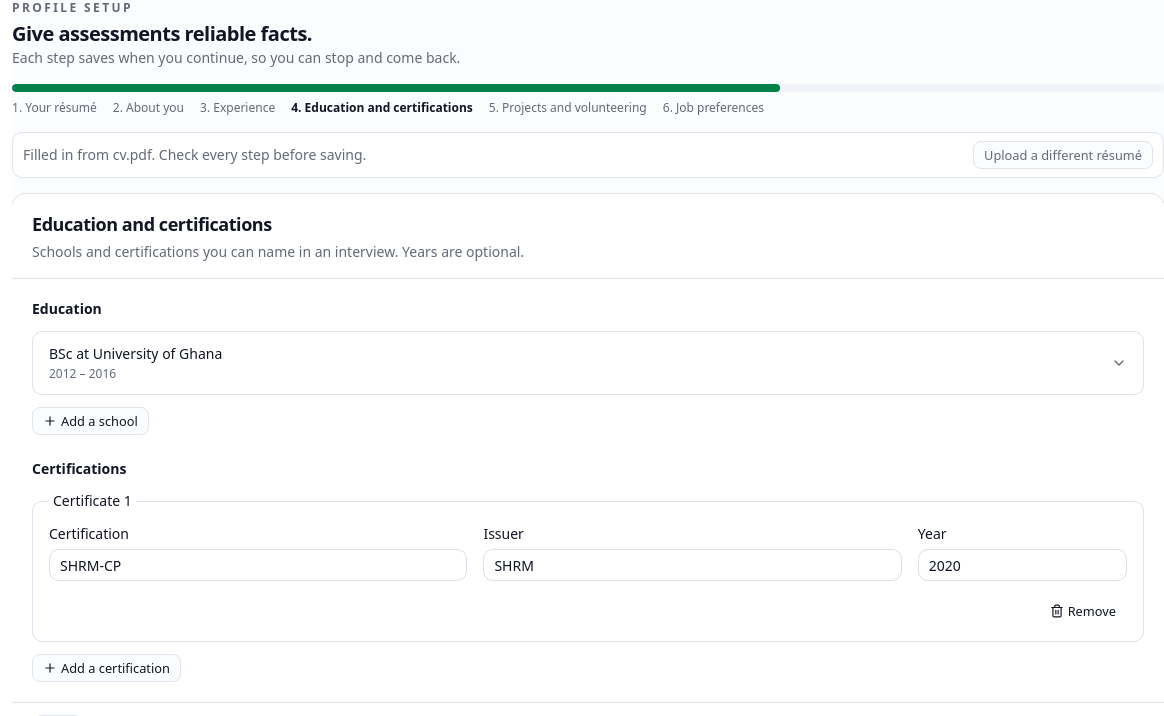
Test case: OnboardingPage › steps › resumes at the first unfinished step after a reload
Expected: the heading "Education and certifications" is shown, [32,212,272,236]
Expected: the progress indicator named "step 4 of 6" is shown, [12,84,1163,92]
Click the button "BSc at University of Ghana 2012 – 2016": (136,354) [33,332,1143,394]
(page scrolled)
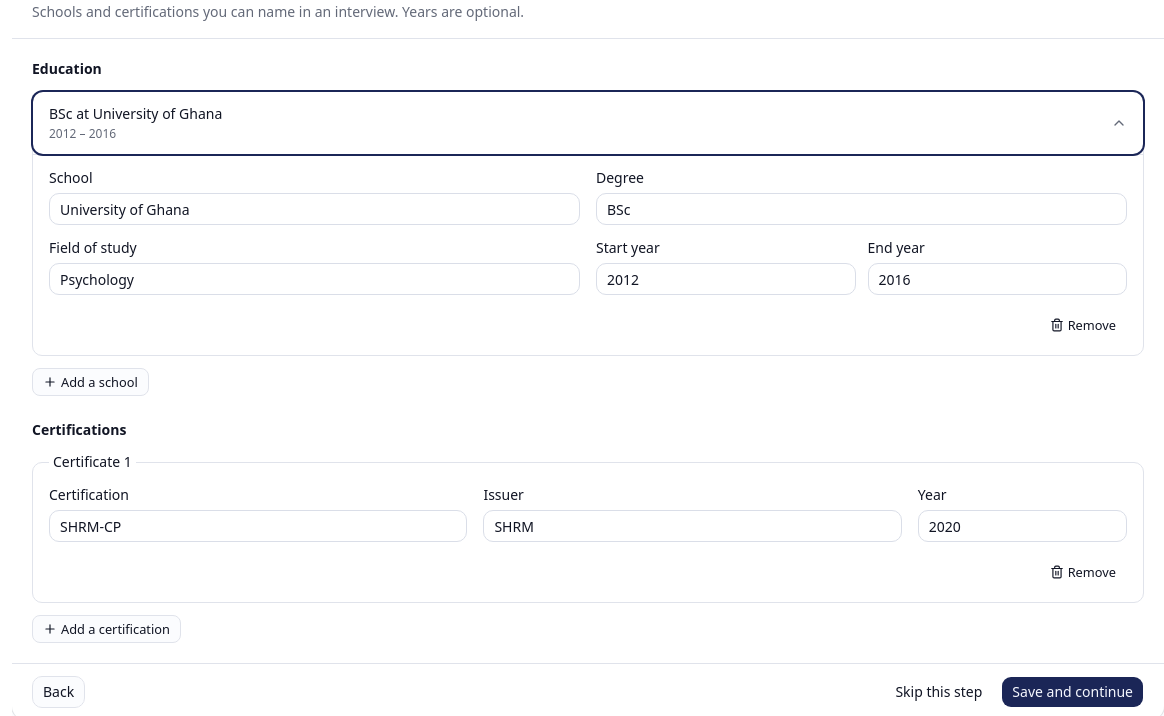
Expected: the field labelled "Certification" holds "SHRM-CP", [49,510,467,542]
Expected: the field labelled "School" holds "University of Ghana", [49,193,580,225]
